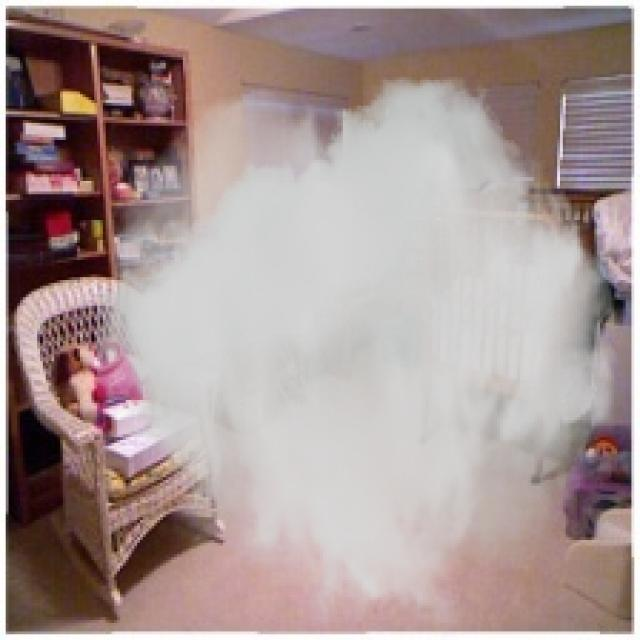smoke: (97, 77, 626, 637)
